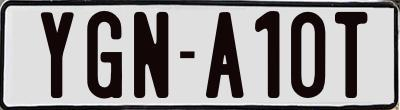0: (290, 10, 327, 98)
1: (254, 10, 285, 99)
A: (205, 11, 248, 98)
G: (85, 8, 123, 96)
N: (133, 10, 172, 100)
T: (335, 9, 372, 95)
Y: (38, 11, 76, 100)
